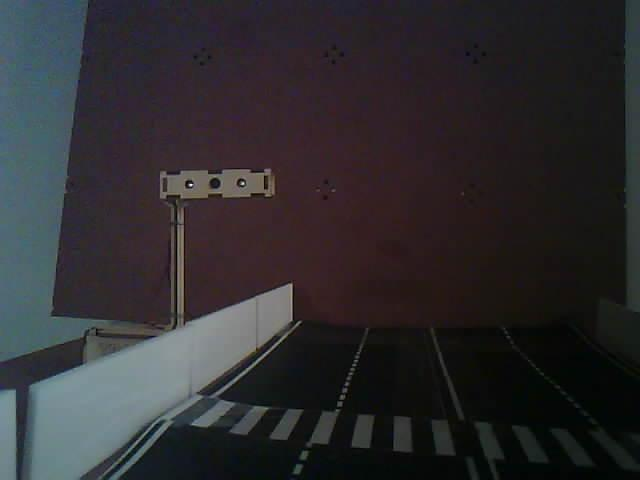crosswalk: (136, 372, 639, 480)
no: (146, 155, 311, 225)
